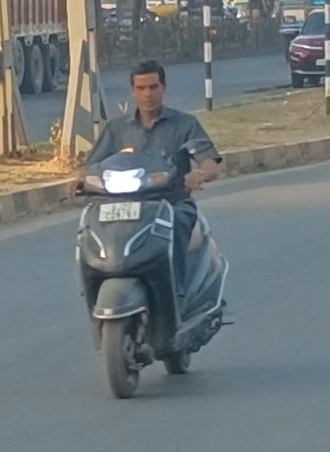BikeWithRider: (61, 55, 240, 402)
NoHelmet: (120, 56, 175, 117)
